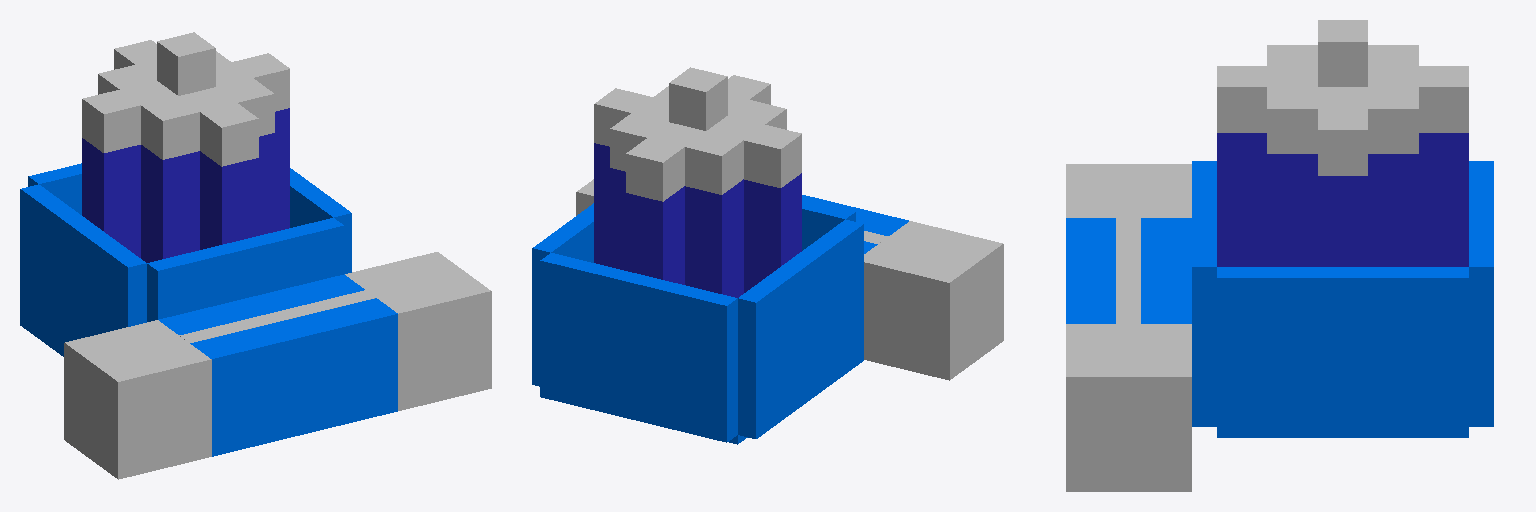
--- Facts derived from the render (not from the file) ---
3 views of the same robot in one strip: view 1: azimuth 30°, elevation 25°; view 2: azimuth 150°, elevation 25°; view 3: azimuth 270°, elevation 25° (orthographic).
Robot: combined_bulb_box_snap_2unit — 6 links, 5 joints (5 fixed); root link middle_plastic; default pose: all joints at 0.
Links seen in each view (by area): view 1: bulb, box, middle_plastic, start_metal, end_metal, line; view 2: box, bulb, start_metal, middle_plastic; view 3: box, bulb, end_metal, middle_plastic, start_metal, line.
Link boxes in pixels (left/top/right/bottom): bulb: left=82, top=32, right=289, bottom=262; box: left=20, top=163, right=351, bottom=356; middle_plastic: left=159, top=274, right=397, bottom=456; start_metal: left=64, top=320, right=211, bottom=479; end_metal: left=345, top=252, right=491, bottom=410; line: left=179, top=290, right=375, bottom=342; box: left=532, top=198, right=863, bottom=444; bulb: left=594, top=67, right=801, bottom=297; start_metal: left=864, top=221, right=1003, bottom=380; middle_plastic: left=802, top=195, right=908, bottom=253; box: left=1192, top=161, right=1493, bottom=437; bulb: left=1217, top=20, right=1468, bottom=266; end_metal: left=1066, top=324, right=1191, bottom=491; middle_plastic: left=1066, top=218, right=1191, bottom=323; start_metal: left=1066, top=164, right=1191, bottom=217; line: left=1116, top=218, right=1140, bottom=323.
Size in the robot's own frame: 0.2 by 0.17 by 0.155 metres.
Geometry: primitives only (box / cylinder / sphere), no mesh files.

URDF robot description (combined_bulb_box_snap_2unit):
<?xml version="1.0"?>
<robot name="combined_bulb_box_snap_2unit">

  <!-- Bulb link -->

    <link name="bulb">

          <!-- Bulb sphere #0 -->
          <visual>
            <origin xyz="-0.04 0.0 -0.06" rpy="0 0 0" />
            <geometry>
              <box size="0.02 0.02 0.02" />
            </geometry>
            <material name="bulb_mat_0">
              <color rgba="0.8 0.8 0.8 1.0"/>
            </material>
          </visual>
          <collision>
            <origin xyz="-0.04 0.0 -0.06" rpy="0 0 0" />
            <geometry>
              <box size="0.02 0.02 0.02" />
            </geometry>
          </collision>

          <!-- Bulb sphere #1 -->
          <visual>
            <origin xyz="-0.02 -0.02 -0.06" rpy="0 0 0" />
            <geometry>
              <box size="0.02 0.02 0.02" />
            </geometry>
            <material name="bulb_mat_1">
              <color rgba="0.8 0.8 0.8 1.0"/>
            </material>
          </visual>
          <collision>
            <origin xyz="-0.02 -0.02 -0.06" rpy="0 0 0" />
            <geometry>
              <box size="0.02 0.02 0.02" />
            </geometry>
          </collision>

          <!-- Bulb sphere #2 -->
          <visual>
            <origin xyz="-0.02 0.0 -0.06" rpy="0 0 0" />
            <geometry>
              <box size="0.02 0.02 0.02" />
            </geometry>
            <material name="bulb_mat_2">
              <color rgba="0.8 0.8 0.8 1.0"/>
            </material>
          </visual>
          <collision>
            <origin xyz="-0.02 0.0 -0.06" rpy="0 0 0" />
            <geometry>
              <box size="0.02 0.02 0.02" />
            </geometry>
          </collision>

          <!-- Bulb sphere #3 -->
          <visual>
            <origin xyz="-0.02 0.02 -0.06" rpy="0 0 0" />
            <geometry>
              <box size="0.02 0.02 0.02" />
            </geometry>
            <material name="bulb_mat_3">
              <color rgba="0.8 0.8 0.8 1.0"/>
            </material>
          </visual>
          <collision>
            <origin xyz="-0.02 0.02 -0.06" rpy="0 0 0" />
            <geometry>
              <box size="0.02 0.02 0.02" />
            </geometry>
          </collision>

          <!-- Bulb sphere #4 -->
          <visual>
            <origin xyz="0.0 -0.04 -0.06" rpy="0 0 0" />
            <geometry>
              <box size="0.02 0.02 0.02" />
            </geometry>
            <material name="bulb_mat_4">
              <color rgba="0.8 0.8 0.8 1.0"/>
            </material>
          </visual>
          <collision>
            <origin xyz="0.0 -0.04 -0.06" rpy="0 0 0" />
            <geometry>
              <box size="0.02 0.02 0.02" />
            </geometry>
          </collision>

          <!-- Bulb sphere #5 -->
          <visual>
            <origin xyz="0.0 -0.02 -0.06" rpy="0 0 0" />
            <geometry>
              <box size="0.02 0.02 0.02" />
            </geometry>
            <material name="bulb_mat_5">
              <color rgba="0.8 0.8 0.8 1.0"/>
            </material>
          </visual>
          <collision>
            <origin xyz="0.0 -0.02 -0.06" rpy="0 0 0" />
            <geometry>
              <box size="0.02 0.02 0.02" />
            </geometry>
          </collision>

          <!-- Bulb sphere #6 -->
          <visual>
            <origin xyz="0.0 0.0 -0.06" rpy="0 0 0" />
            <geometry>
              <box size="0.02 0.02 0.02" />
            </geometry>
            <material name="bulb_mat_6">
              <color rgba="0.8 0.8 0.8 1.0"/>
            </material>
          </visual>
          <collision>
            <origin xyz="0.0 0.0 -0.06" rpy="0 0 0" />
            <geometry>
              <box size="0.02 0.02 0.02" />
            </geometry>
          </collision>

          <!-- Bulb sphere #7 -->
          <visual>
            <origin xyz="0.0 0.02 -0.06" rpy="0 0 0" />
            <geometry>
              <box size="0.02 0.02 0.02" />
            </geometry>
            <material name="bulb_mat_7">
              <color rgba="0.8 0.8 0.8 1.0"/>
            </material>
          </visual>
          <collision>
            <origin xyz="0.0 0.02 -0.06" rpy="0 0 0" />
            <geometry>
              <box size="0.02 0.02 0.02" />
            </geometry>
          </collision>

          <!-- Bulb sphere #8 -->
          <visual>
            <origin xyz="0.0 0.04 -0.06" rpy="0 0 0" />
            <geometry>
              <box size="0.02 0.02 0.02" />
            </geometry>
            <material name="bulb_mat_8">
              <color rgba="0.8 0.8 0.8 1.0"/>
            </material>
          </visual>
          <collision>
            <origin xyz="0.0 0.04 -0.06" rpy="0 0 0" />
            <geometry>
              <box size="0.02 0.02 0.02" />
            </geometry>
          </collision>

          <!-- Bulb sphere #9 -->
          <visual>
            <origin xyz="0.02 -0.02 -0.06" rpy="0 0 0" />
            <geometry>
              <box size="0.02 0.02 0.02" />
            </geometry>
            <material name="bulb_mat_9">
              <color rgba="0.8 0.8 0.8 1.0"/>
            </material>
          </visual>
          <collision>
            <origin xyz="0.02 -0.02 -0.06" rpy="0 0 0" />
            <geometry>
              <box size="0.02 0.02 0.02" />
            </geometry>
          </collision>

          <!-- Bulb sphere #10 -->
          <visual>
            <origin xyz="0.02 0.0 -0.06" rpy="0 0 0" />
            <geometry>
              <box size="0.02 0.02 0.02" />
            </geometry>
            <material name="bulb_mat_10">
              <color rgba="0.8 0.8 0.8 1.0"/>
            </material>
          </visual>
          <collision>
            <origin xyz="0.02 0.0 -0.06" rpy="0 0 0" />
            <geometry>
              <box size="0.02 0.02 0.02" />
            </geometry>
          </collision>

          <!-- Bulb sphere #11 -->
          <visual>
            <origin xyz="0.02 0.02 -0.06" rpy="0 0 0" />
            <geometry>
              <box size="0.02 0.02 0.02" />
            </geometry>
            <material name="bulb_mat_11">
              <color rgba="0.8 0.8 0.8 1.0"/>
            </material>
          </visual>
          <collision>
            <origin xyz="0.02 0.02 -0.06" rpy="0 0 0" />
            <geometry>
              <box size="0.02 0.02 0.02" />
            </geometry>
          </collision>

          <!-- Bulb sphere #12 -->
          <visual>
            <origin xyz="0.04 0.0 -0.06" rpy="0 0 0" />
            <geometry>
              <box size="0.02 0.02 0.02" />
            </geometry>
            <material name="bulb_mat_12">
              <color rgba="0.8 0.8 0.8 1.0"/>
            </material>
          </visual>
          <collision>
            <origin xyz="0.04 0.0 -0.06" rpy="0 0 0" />
            <geometry>
              <box size="0.02 0.02 0.02" />
            </geometry>
          </collision>

          <!-- Bulb sphere #13 -->
          <visual>
            <origin xyz="-0.04 0.0 -0.039999999999999994" rpy="0 0 0" />
            <geometry>
              <box size="0.02 0.02 0.02" />
            </geometry>
            <material name="bulb_mat_13">
              <color rgba="0.2 0.2 0.8 1.0"/>
            </material>
          </visual>
          <collision>
            <origin xyz="-0.04 0.0 -0.039999999999999994" rpy="0 0 0" />
            <geometry>
              <box size="0.02 0.02 0.02" />
            </geometry>
          </collision>

          <!-- Bulb sphere #14 -->
          <visual>
            <origin xyz="-0.02 -0.02 -0.039999999999999994" rpy="0 0 0" />
            <geometry>
              <box size="0.02 0.02 0.02" />
            </geometry>
            <material name="bulb_mat_14">
              <color rgba="0.2 0.2 0.8 1.0"/>
            </material>
          </visual>
          <collision>
            <origin xyz="-0.02 -0.02 -0.039999999999999994" rpy="0 0 0" />
            <geometry>
              <box size="0.02 0.02 0.02" />
            </geometry>
          </collision>

          <!-- Bulb sphere #15 -->
          <visual>
            <origin xyz="-0.02 0.0 -0.039999999999999994" rpy="0 0 0" />
            <geometry>
              <box size="0.02 0.02 0.02" />
            </geometry>
            <material name="bulb_mat_15">
              <color rgba="0.2 0.2 0.8 1.0"/>
            </material>
          </visual>
          <collision>
            <origin xyz="-0.02 0.0 -0.039999999999999994" rpy="0 0 0" />
            <geometry>
              <box size="0.02 0.02 0.02" />
            </geometry>
          </collision>

          <!-- Bulb sphere #16 -->
          <visual>
            <origin xyz="-0.02 0.02 -0.039999999999999994" rpy="0 0 0" />
            <geometry>
              <box size="0.02 0.02 0.02" />
            </geometry>
            <material name="bulb_mat_16">
              <color rgba="0.2 0.2 0.8 1.0"/>
            </material>
          </visual>
          <collision>
            <origin xyz="-0.02 0.02 -0.039999999999999994" rpy="0 0 0" />
            <geometry>
              <box size="0.02 0.02 0.02" />
            </geometry>
          </collision>

          <!-- Bulb sphere #17 -->
          <visual>
            <origin xyz="0.0 -0.04 -0.039999999999999994" rpy="0 0 0" />
            <geometry>
              <box size="0.02 0.02 0.02" />
            </geometry>
            <material name="bulb_mat_17">
              <color rgba="0.2 0.2 0.8 1.0"/>
            </material>
          </visual>
          <collision>
            <origin xyz="0.0 -0.04 -0.039999999999999994" rpy="0 0 0" />
            <geometry>
              <box size="0.02 0.02 0.02" />
            </geometry>
          </collision>

          <!-- Bulb sphere #18 -->
          <visual>
            <origin xyz="0.0 -0.02 -0.039999999999999994" rpy="0 0 0" />
            <geometry>
              <box size="0.02 0.02 0.02" />
            </geometry>
            <material name="bulb_mat_18">
              <color rgba="0.2 0.2 0.8 1.0"/>
            </material>
          </visual>
          <collision>
            <origin xyz="0.0 -0.02 -0.039999999999999994" rpy="0 0 0" />
            <geometry>
              <box size="0.02 0.02 0.02" />
            </geometry>
          </collision>

          <!-- Bulb sphere #19 -->
          <visual>
            <origin xyz="0.0 0.0 -0.039999999999999994" rpy="0 0 0" />
            <geometry>
              <box size="0.02 0.02 0.02" />
            </geometry>
            <material name="bulb_mat_19">
              <color rgba="0.2 0.2 0.8 1.0"/>
            </material>
          </visual>
          <collision>
            <origin xyz="0.0 0.0 -0.039999999999999994" rpy="0 0 0" />
            <geometry>
              <box size="0.02 0.02 0.02" />
            </geometry>
          </collision>

          <!-- Bulb sphere #20 -->
          <visual>
            <origin xyz="0.0 0.02 -0.039999999999999994" rpy="0 0 0" />
            <geometry>
              <box size="0.02 0.02 0.02" />
            </geometry>
            <material name="bulb_mat_20">
              <color rgba="0.2 0.2 0.8 1.0"/>
            </material>
          </visual>
          <collision>
            <origin xyz="0.0 0.02 -0.039999999999999994" rpy="0 0 0" />
            <geometry>
              <box size="0.02 0.02 0.02" />
            </geometry>
          </collision>

          <!-- Bulb sphere #21 -->
          <visual>
            <origin xyz="0.0 0.04 -0.039999999999999994" rpy="0 0 0" />
            <geometry>
              <box size="0.02 0.02 0.02" />
            </geometry>
            <material name="bulb_mat_21">
              <color rgba="0.2 0.2 0.8 1.0"/>
            </material>
          </visual>
          <collision>
            <origin xyz="0.0 0.04 -0.039999999999999994" rpy="0 0 0" />
            <geometry>
              <box size="0.02 0.02 0.02" />
            </geometry>
          </collision>

          <!-- Bulb sphere #22 -->
          <visual>
            <origin xyz="0.02 -0.02 -0.039999999999999994" rpy="0 0 0" />
            <geometry>
              <box size="0.02 0.02 0.02" />
            </geometry>
            <material name="bulb_mat_22">
              <color rgba="0.2 0.2 0.8 1.0"/>
            </material>
          </visual>
          <collision>
            <origin xyz="0.02 -0.02 -0.039999999999999994" rpy="0 0 0" />
            <geometry>
              <box size="0.02 0.02 0.02" />
            </geometry>
          </collision>

          <!-- Bulb sphere #23 -->
          <visual>
            <origin xyz="0.02 0.0 -0.039999999999999994" rpy="0 0 0" />
            <geometry>
              <box size="0.02 0.02 0.02" />
            </geometry>
            <material name="bulb_mat_23">
              <color rgba="0.2 0.2 0.8 1.0"/>
            </material>
          </visual>
          <collision>
            <origin xyz="0.02 0.0 -0.039999999999999994" rpy="0 0 0" />
            <geometry>
              <box size="0.02 0.02 0.02" />
            </geometry>
          </collision>

          <!-- Bulb sphere #24 -->
          <visual>
            <origin xyz="0.02 0.02 -0.039999999999999994" rpy="0 0 0" />
            <geometry>
              <box size="0.02 0.02 0.02" />
            </geometry>
            <material name="bulb_mat_24">
              <color rgba="0.2 0.2 0.8 1.0"/>
            </material>
          </visual>
          <collision>
            <origin xyz="0.02 0.02 -0.039999999999999994" rpy="0 0 0" />
            <geometry>
              <box size="0.02 0.02 0.02" />
            </geometry>
          </collision>

          <!-- Bulb sphere #25 -->
          <visual>
            <origin xyz="0.04 0.0 -0.039999999999999994" rpy="0 0 0" />
            <geometry>
              <box size="0.02 0.02 0.02" />
            </geometry>
            <material name="bulb_mat_25">
              <color rgba="0.2 0.2 0.8 1.0"/>
            </material>
          </visual>
          <collision>
            <origin xyz="0.04 0.0 -0.039999999999999994" rpy="0 0 0" />
            <geometry>
              <box size="0.02 0.02 0.02" />
            </geometry>
          </collision>

          <!-- Bulb sphere #26 -->
          <visual>
            <origin xyz="-0.04 0.0 -0.019999999999999993" rpy="0 0 0" />
            <geometry>
              <box size="0.02 0.02 0.02" />
            </geometry>
            <material name="bulb_mat_26">
              <color rgba="0.2 0.2 0.8 1.0"/>
            </material>
          </visual>
          <collision>
            <origin xyz="-0.04 0.0 -0.019999999999999993" rpy="0 0 0" />
            <geometry>
              <box size="0.02 0.02 0.02" />
            </geometry>
          </collision>

          <!-- Bulb sphere #27 -->
          <visual>
            <origin xyz="-0.02 -0.02 -0.019999999999999993" rpy="0 0 0" />
            <geometry>
              <box size="0.02 0.02 0.02" />
            </geometry>
            <material name="bulb_mat_27">
              <color rgba="0.2 0.2 0.8 1.0"/>
            </material>
          </visual>
          <collision>
            <origin xyz="-0.02 -0.02 -0.019999999999999993" rpy="0 0 0" />
            <geometry>
              <box size="0.02 0.02 0.02" />
            </geometry>
          </collision>

          <!-- Bulb sphere #28 -->
          <visual>
            <origin xyz="-0.02 0.0 -0.019999999999999993" rpy="0 0 0" />
            <geometry>
              <box size="0.02 0.02 0.02" />
            </geometry>
            <material name="bulb_mat_28">
              <color rgba="0.2 0.2 0.8 1.0"/>
            </material>
          </visual>
          <collision>
            <origin xyz="-0.02 0.0 -0.019999999999999993" rpy="0 0 0" />
            <geometry>
              <box size="0.02 0.02 0.02" />
            </geometry>
          </collision>

          <!-- Bulb sphere #29 -->
          <visual>
            <origin xyz="-0.02 0.02 -0.019999999999999993" rpy="0 0 0" />
            <geometry>
              <box size="0.02 0.02 0.02" />
            </geometry>
            <material name="bulb_mat_29">
              <color rgba="0.2 0.2 0.8 1.0"/>
            </material>
          </visual>
          <collision>
            <origin xyz="-0.02 0.02 -0.019999999999999993" rpy="0 0 0" />
            <geometry>
              <box size="0.02 0.02 0.02" />
            </geometry>
          </collision>

          <!-- Bulb sphere #30 -->
          <visual>
            <origin xyz="0.0 -0.04 -0.019999999999999993" rpy="0 0 0" />
            <geometry>
              <box size="0.02 0.02 0.02" />
            </geometry>
            <material name="bulb_mat_30">
              <color rgba="0.2 0.2 0.8 1.0"/>
            </material>
          </visual>
          <collision>
            <origin xyz="0.0 -0.04 -0.019999999999999993" rpy="0 0 0" />
            <geometry>
              <box size="0.02 0.02 0.02" />
            </geometry>
          </collision>

          <!-- Bulb sphere #31 -->
          <visual>
            <origin xyz="0.0 -0.02 -0.019999999999999993" rpy="0 0 0" />
            <geometry>
              <box size="0.02 0.02 0.02" />
            </geometry>
            <material name="bulb_mat_31">
              <color rgba="0.2 0.2 0.8 1.0"/>
            </material>
          </visual>
          <collision>
            <origin xyz="0.0 -0.02 -0.019999999999999993" rpy="0 0 0" />
            <geometry>
              <box size="0.02 0.02 0.02" />
            </geometry>
          </collision>

          <!-- Bulb sphere #32 -->
          <visual>
            <origin xyz="0.0 0.0 -0.019999999999999993" rpy="0 0 0" />
            <geometry>
              <box size="0.02 0.02 0.02" />
            </geometry>
            <material name="bulb_mat_32">
              <color rgba="0.2 0.2 0.8 1.0"/>
            </material>
          </visual>
          <collision>
            <origin xyz="0.0 0.0 -0.019999999999999993" rpy="0 0 0" />
            <geometry>
              <box size="0.02 0.02 0.02" />
            </geometry>
          </collision>

          <!-- Bulb sphere #33 -->
          <visual>
            <origin xyz="0.0 0.02 -0.019999999999999993" rpy="0 0 0" />
            <geometry>
              <box size="0.02 0.02 0.02" />
            </geometry>
            <material name="bulb_mat_33">
              <color rgba="0.2 0.2 0.8 1.0"/>
            </material>
          </visual>
          <collision>
            <origin xyz="0.0 0.02 -0.019999999999999993" rpy="0 0 0" />
            <geometry>
              <box size="0.02 0.02 0.02" />
            </geometry>
          </collision>

          <!-- Bulb sphere #34 -->
          <visual>
            <origin xyz="0.0 0.04 -0.019999999999999993" rpy="0 0 0" />
            <geometry>
              <box size="0.02 0.02 0.02" />
            </geometry>
            <material name="bulb_mat_34">
              <color rgba="0.2 0.2 0.8 1.0"/>
            </material>
          </visual>
          <collision>
            <origin xyz="0.0 0.04 -0.019999999999999993" rpy="0 0 0" />
            <geometry>
              <box size="0.02 0.02 0.02" />
            </geometry>
          </collision>

          <!-- Bulb sphere #35 -->
          <visual>
            <origin xyz="0.02 -0.02 -0.019999999999999993" rpy="0 0 0" />
            <geometry>
              <box size="0.02 0.02 0.02" />
            </geometry>
            <material name="bulb_mat_35">
              <color rgba="0.2 0.2 0.8 1.0"/>
            </material>
          </visual>
          <collision>
            <origin xyz="0.02 -0.02 -0.019999999999999993" rpy="0 0 0" />
            <geometry>
              <box size="0.02 0.02 0.02" />
            </geometry>
          </collision>

          <!-- Bulb sphere #36 -->
          <visual>
            <origin xyz="0.02 0.0 -0.019999999999999993" rpy="0 0 0" />
            <geometry>
              <box size="0.02 0.02 0.02" />
            </geometry>
            <material name="bulb_mat_36">
              <color rgba="0.2 0.2 0.8 1.0"/>
            </material>
          </visual>
          <collision>
            <origin xyz="0.02 0.0 -0.019999999999999993" rpy="0 0 0" />
            <geometry>
              <box size="0.02 0.02 0.02" />
            </geometry>
          </collision>

          <!-- Bulb sphere #37 -->
          <visual>
            <origin xyz="0.02 0.02 -0.019999999999999993" rpy="0 0 0" />
            <geometry>
              <box size="0.02 0.02 0.02" />
            </geometry>
            <material name="bulb_mat_37">
              <color rgba="0.2 0.2 0.8 1.0"/>
            </material>
          </visual>
          <collision>
            <origin xyz="0.02 0.02 -0.019999999999999993" rpy="0 0 0" />
            <geometry>
              <box size="0.02 0.02 0.02" />
            </geometry>
          </collision>

          <!-- Bulb sphere #38 -->
          <visual>
            <origin xyz="0.04 0.0 -0.019999999999999993" rpy="0 0 0" />
            <geometry>
              <box size="0.02 0.02 0.02" />
            </geometry>
            <material name="bulb_mat_38">
              <color rgba="0.2 0.2 0.8 1.0"/>
            </material>
          </visual>
          <collision>
            <origin xyz="0.04 0.0 -0.019999999999999993" rpy="0 0 0" />
            <geometry>
              <box size="0.02 0.02 0.02" />
            </geometry>
          </collision>

          <!-- Bulb sphere #39 -->
          <visual>
            <origin xyz="-0.04 0.0 6.938893903907228e-18" rpy="0 0 0" />
            <geometry>
              <box size="0.02 0.02 0.02" />
            </geometry>
            <material name="bulb_mat_39">
              <color rgba="0.2 0.2 0.8 1.0"/>
            </material>
          </visual>
          <collision>
            <origin xyz="-0.04 0.0 6.938893903907228e-18" rpy="0 0 0" />
            <geometry>
              <box size="0.02 0.02 0.02" />
            </geometry>
          </collision>

          <!-- Bulb sphere #40 -->
          <visual>
            <origin xyz="-0.02 -0.02 6.938893903907228e-18" rpy="0 0 0" />
            <geometry>
              <box size="0.02 0.02 0.02" />
            </geometry>
            <material name="bulb_mat_40">
              <color rgba="0.2 0.2 0.8 1.0"/>
            </material>
          </visual>
          <collision>
            <origin xyz="-0.02 -0.02 6.938893903907228e-18" rpy="0 0 0" />
            <geometry>
              <box size="0.02 0.02 0.02" />
            </geometry>
          </collision>

          <!-- Bulb sphere #41 -->
          <visual>
            <origin xyz="-0.02 0.0 6.938893903907228e-18" rpy="0 0 0" />
            <geometry>
              <box size="0.02 0.02 0.02" />
            </geometry>
            <material name="bulb_mat_41">
              <color rgba="0.2 0.2 0.8 1.0"/>
            </material>
          </visual>
          <collision>
            <origin xyz="-0.02 0.0 6.938893903907228e-18" rpy="0 0 0" />
            <geometry>
              <box size="0.02 0.02 0.02" />
            </geometry>
          </collision>

          <!-- Bulb sphere #42 -->
          <visual>
            <origin xyz="-0.02 0.02 6.938893903907228e-18" rpy="0 0 0" />
            <geometry>
              <box size="0.02 0.02 0.02" />
            </geometry>
            <material name="bulb_mat_42">
              <color rgba="0.2 0.2 0.8 1.0"/>
            </material>
          </visual>
          <collision>
            <origin xyz="-0.02 0.02 6.938893903907228e-18" rpy="0 0 0" />
            <geometry>
              <box size="0.02 0.02 0.02" />
            </geometry>
          </collision>

          <!-- Bulb sphere #43 -->
          <visual>
            <origin xyz="0.0 -0.04 6.938893903907228e-18" rpy="0 0 0" />
            <geometry>
              <box size="0.02 0.02 0.02" />
            </geometry>
            <material name="bulb_mat_43">
              <color rgba="0.2 0.2 0.8 1.0"/>
            </material>
          </visual>
          <collision>
            <origin xyz="0.0 -0.04 6.938893903907228e-18" rpy="0 0 0" />
            <geometry>
              <box size="0.02 0.02 0.02" />
            </geometry>
          </collision>

          <!-- Bulb sphere #44 -->
          <visual>
            <origin xyz="0.0 -0.02 6.938893903907228e-18" rpy="0 0 0" />
            <geometry>
              <box size="0.02 0.02 0.02" />
            </geometry>
            <material name="bulb_mat_44">
              <color rgba="0.2 0.2 0.8 1.0"/>
            </material>
          </visual>
          <collision>
            <origin xyz="0.0 -0.02 6.938893903907228e-18" rpy="0 0 0" />
            <geometry>
              <box size="0.02 0.02 0.02" />
            </geometry>
          </collision>

          <!-- Bulb sphere #45 -->
          <visual>
            <origin xyz="0.0 0.0 6.938893903907228e-18" rpy="0 0 0" />
            <geometry>
              <box size="0.02 0.02 0.02" />
            </geometry>
            <material name="bulb_mat_45">
              <color rgba="0.2 0.2 0.8 1.0"/>
            </material>
          </visual>
          <collision>
            <origin xyz="0.0 0.0 6.938893903907228e-18" rpy="0 0 0" />
            <geometry>
              <box size="0.02 0.02 0.02" />
            </geometry>
          </collision>

          <!-- Bulb sphere #46 -->
          <visual>
            <origin xyz="0.0 0.02 6.938893903907228e-18" rpy="0 0 0" />
            <geometry>
              <box size="0.02 0.02 0.02" />
            </geometry>
            <material name="bulb_mat_46">
              <color rgba="0.2 0.2 0.8 1.0"/>
            </material>
          </visual>
          <collision>
            <origin xyz="0.0 0.02 6.938893903907228e-18" rpy="0 0 0" />
            <geometry>
              <box size="0.02 0.02 0.02" />
            </geometry>
          </collision>

          <!-- Bulb sphere #47 -->
          <visual>
            <origin xyz="0.0 0.04 6.938893903907228e-18" rpy="0 0 0" />
            <geometry>
              <box size="0.02 0.02 0.02" />
            </geometry>
            <material name="bulb_mat_47">
              <color rgba="0.2 0.2 0.8 1.0"/>
            </material>
          </visual>
          <collision>
            <origin xyz="0.0 0.04 6.938893903907228e-18" rpy="0 0 0" />
            <geometry>
              <box size="0.02 0.02 0.02" />
            </geometry>
          </collision>

          <!-- Bulb sphere #48 -->
          <visual>
            <origin xyz="0.02 -0.02 6.938893903907228e-18" rpy="0 0 0" />
            <geometry>
              <box size="0.02 0.02 0.02" />
            </geometry>
            <material name="bulb_mat_48">
              <color rgba="0.2 0.2 0.8 1.0"/>
            </material>
          </visual>
          <collision>
            <origin xyz="0.02 -0.02 6.938893903907228e-18" rpy="0 0 0" />
            <geometry>
              <box size="0.02 0.02 0.02" />
            </geometry>
          </collision>

          <!-- Bulb sphere #49 -->
          <visual>
            <origin xyz="0.02 0.0 6.938893903907228e-18" rpy="0 0 0" />
            <geometry>
              <box size="0.02 0.02 0.02" />
            </geometry>
            <material name="bulb_mat_49">
              <color rgba="0.2 0.2 0.8 1.0"/>
            </material>
          </visual>
          <collision>
            <origin xyz="0.02 0.0 6.938893903907228e-18" rpy="0 0 0" />
            <geometry>
              <box size="0.02 0.02 0.02" />
            </geometry>
          </collision>

          <!-- Bulb sphere #50 -->
          <visual>
            <origin xyz="0.02 0.02 6.938893903907228e-18" rpy="0 0 0" />
            <geometry>
              <box size="0.02 0.02 0.02" />
            </geometry>
            <material name="bulb_mat_50">
              <color rgba="0.2 0.2 0.8 1.0"/>
            </material>
          </visual>
          <collision>
            <origin xyz="0.02 0.02 6.938893903907228e-18" rpy="0 0 0" />
            <geometry>
              <box size="0.02 0.02 0.02" />
            </geometry>
          </collision>

          <!-- Bulb sphere #51 -->
          <visual>
            <origin xyz="0.04 0.0 6.938893903907228e-18" rpy="0 0 0" />
            <geometry>
              <box size="0.02 0.02 0.02" />
            </geometry>
            <material name="bulb_mat_51">
              <color rgba="0.2 0.2 0.8 1.0"/>
            </material>
          </visual>
          <collision>
            <origin xyz="0.04 0.0 6.938893903907228e-18" rpy="0 0 0" />
            <geometry>
              <box size="0.02 0.02 0.02" />
            </geometry>
          </collision>

          <!-- Bulb sphere #52 -->
          <visual>
            <origin xyz="-0.04 0.0 0.020000000000000004" rpy="0 0 0" />
            <geometry>
              <box size="0.02 0.02 0.02" />
            </geometry>
            <material name="bulb_mat_52">
              <color rgba="0.2 0.2 0.8 1.0"/>
            </material>
          </visual>
          <collision>
            <origin xyz="-0.04 0.0 0.020000000000000004" rpy="0 0 0" />
            <geometry>
              <box size="0.02 0.02 0.02" />
            </geometry>
          </collision>

          <!-- Bulb sphere #53 -->
          <visual>
            <origin xyz="-0.02 -0.02 0.020000000000000004" rpy="0 0 0" />
            <geometry>
              <box size="0.02 0.02 0.02" />
            </geometry>
            <material name="bulb_mat_53">
              <color rgba="0.2 0.2 0.8 1.0"/>
            </material>
          </visual>
          <collision>
            <origin xyz="-0.02 -0.02 0.020000000000000004" rpy="0 0 0" />
            <geometry>
              <box size="0.02 0.02 0.02" />
            </geometry>
          </collision>

          <!-- Bulb sphere #54 -->
          <visual>
            <origin xyz="-0.02 0.0 0.020000000000000004" rpy="0 0 0" />
            <geometry>
              <box size="0.02 0.02 0.02" />
            </geometry>
            <material name="bulb_mat_54">
              <color rgba="0.2 0.2 0.8 1.0"/>
            </material>
          </visual>
          <collision>
            <origin xyz="-0.02 0.0 0.020000000000000004" rpy="0 0 0" />
            <geometry>
              <box size="0.02 0.02 0.02" />
            </geometry>
          </collision>

          <!-- Bulb sphere #55 -->
          <visual>
            <origin xyz="-0.02 0.02 0.020000000000000004" rpy="0 0 0" />
            <geometry>
              <box size="0.02 0.02 0.02" />
            </geometry>
            <material name="bulb_mat_55">
              <color rgba="0.2 0.2 0.8 1.0"/>
            </material>
          </visual>
          <collision>
            <origin xyz="-0.02 0.02 0.020000000000000004" rpy="0 0 0" />
            <geometry>
              <box size="0.02 0.02 0.02" />
            </geometry>
          </collision>

          <!-- Bulb sphere #56 -->
          <visual>
            <origin xyz="0.0 -0.04 0.020000000000000004" rpy="0 0 0" />
            <geometry>
              <box size="0.02 0.02 0.02" />
            </geometry>
            <material name="bulb_mat_56">
              <color rgba="0.2 0.2 0.8 1.0"/>
            </material>
          </visual>
          <collision>
            <origin xyz="0.0 -0.04 0.020000000000000004" rpy="0 0 0" />
            <geometry>
              <box size="0.02 0.02 0.02" />
            </geometry>
          </collision>

          <!-- Bulb sphere #57 -->
          <visual>
            <origin xyz="0.0 -0.02 0.020000000000000004" rpy="0 0 0" />
            <geometry>
              <box size="0.02 0.02 0.02" />
            </geometry>
            <material name="bulb_mat_57">
              <color rgba="0.2 0.2 0.8 1.0"/>
            </material>
          </visual>
          <collision>
            <origin xyz="0.0 -0.02 0.020000000000000004" rpy="0 0 0" />
            <geometry>
              <box size="0.02 0.02 0.02" />
            </geometry>
          </collision>

          <!-- Bulb sphere #58 -->
          <visual>
            <origin xyz="0.0 0.0 0.020000000000000004" rpy="0 0 0" />
            <geometry>
              <box size="0.02 0.02 0.02" />
            </geometry>
            <material name="bulb_mat_58">
              <color rgba="0.2 0.2 0.8 1.0"/>
            </material>
          </visual>
          <collision>
            <origin xyz="0.0 0.0 0.020000000000000004" rpy="0 0 0" />
            <geometry>
              <box size="0.02 0.02 0.02" />
            </geometry>
          </collision>

          <!-- Bulb sphere #59 -->
          <visual>
            <origin xyz="0.0 0.02 0.020000000000000004" rpy="0 0 0" />
            <geometry>
              <box size="0.02 0.02 0.02" />
            </geometry>
            <material name="bulb_mat_59">
              <color rgba="0.2 0.2 0.8 1.0"/>
            </material>
          </visual>
          <collision>
            <origin xyz="0.0 0.02 0.020000000000000004" rpy="0 0 0" />
            <geometry>
              <box size="0.02 0.02 0.02" />
            </geometry>
          </collision>

          <!-- Bulb sphere #60 -->
          <visual>
            <origin xyz="0.0 0.04 0.020000000000000004" rpy="0 0 0" />
            <geometry>
              <box size="0.02 0.02 0.02" />
            </geometry>
            <material name="bulb_mat_60">
              <color rgba="0.2 0.2 0.8 1.0"/>
            </material>
          </visual>
          <collision>
            <origin xyz="0.0 0.04 0.020000000000000004" rpy="0 0 0" />
            <geometry>
              <box size="0.02 0.02 0.02" />
            </geometry>
          </collision>

          <!-- Bulb sphere #61 -->
          <visual>
            <origin xyz="0.02 -0.02 0.020000000000000004" rpy="0 0 0" />
            <geometry>
              <box size="0.02 0.02 0.02" />
            </geometry>
            <material name="bulb_mat_61">
              <color rgba="0.2 0.2 0.8 1.0"/>
            </material>
          </visual>
          <collision>
            <origin xyz="0.02 -0.02 0.020000000000000004" rpy="0 0 0" />
            <geometry>
              <box size="0.02 0.02 0.02" />
            </geometry>
          </collision>

          <!-- Bulb sphere #62 -->
          <visual>
            <origin xyz="0.02 0.0 0.020000000000000004" rpy="0 0 0" />
            <geometry>
              <box size="0.02 0.02 0.02" />
            </geometry>
            <material name="bulb_mat_62">
              <color rgba="0.2 0.2 0.8 1.0"/>
            </material>
          </visual>
          <collision>
            <origin xyz="0.02 0.0 0.020000000000000004" rpy="0 0 0" />
            <geometry>
              <box size="0.02 0.02 0.02" />
            </geometry>
          </collision>

          <!-- Bulb sphere #63 -->
          <visual>
            <origin xyz="0.02 0.02 0.020000000000000004" rpy="0 0 0" />
            <geometry>
              <box size="0.02 0.02 0.02" />
            </geometry>
            <material name="bulb_mat_63">
              <color rgba="0.2 0.2 0.8 1.0"/>
            </material>
          </visual>
          <collision>
            <origin xyz="0.02 0.02 0.020000000000000004" rpy="0 0 0" />
            <geometry>
              <box size="0.02 0.02 0.02" />
            </geometry>
          </collision>

          <!-- Bulb sphere #64 -->
          <visual>
            <origin xyz="0.04 0.0 0.020000000000000004" rpy="0 0 0" />
            <geometry>
              <box size="0.02 0.02 0.02" />
            </geometry>
            <material name="bulb_mat_64">
              <color rgba="0.2 0.2 0.8 1.0"/>
            </material>
          </visual>
          <collision>
            <origin xyz="0.04 0.0 0.020000000000000004" rpy="0 0 0" />
            <geometry>
              <box size="0.02 0.02 0.02" />
            </geometry>
          </collision>

          <!-- Bulb sphere #65 -->
          <visual>
            <origin xyz="-0.04 0.0 0.039999999999999994" rpy="0 0 0" />
            <geometry>
              <box size="0.02 0.02 0.02" />
            </geometry>
            <material name="bulb_mat_65">
              <color rgba="0.8 0.8 0.8 1.0"/>
            </material>
          </visual>
          <collision>
            <origin xyz="-0.04 0.0 0.039999999999999994" rpy="0 0 0" />
            <geometry>
              <box size="0.02 0.02 0.02" />
            </geometry>
          </collision>

          <!-- Bulb sphere #66 -->
          <visual>
            <origin xyz="-0.02 -0.02 0.039999999999999994" rpy="0 0 0" />
            <geometry>
              <box size="0.02 0.02 0.02" />
            </geometry>
            <material name="bulb_mat_66">
              <color rgba="0.8 0.8 0.8 1.0"/>
            </material>
          </visual>
          <collision>
            <origin xyz="-0.02 -0.02 0.039999999999999994" rpy="0 0 0" />
            <geometry>
              <box size="0.02 0.02 0.02" />
            </geometry>
          </collision>

          <!-- Bulb sphere #67 -->
          <visual>
            <origin xyz="-0.02 0.0 0.039999999999999994" rpy="0 0 0" />
            <geometry>
              <box size="0.02 0.02 0.02" />
            </geometry>
            <material name="bulb_mat_67">
              <color rgba="0.8 0.8 0.8 1.0"/>
            </material>
          </visual>
          <collision>
            <origin xyz="-0.02 0.0 0.039999999999999994" rpy="0 0 0" />
            <geometry>
              <box size="0.02 0.02 0.02" />
            </geometry>
          </collision>

          <!-- Bulb sphere #68 -->
          <visual>
            <origin xyz="-0.02 0.02 0.039999999999999994" rpy="0 0 0" />
            <geometry>
              <box size="0.02 0.02 0.02" />
            </geometry>
            <material name="bulb_mat_68">
              <color rgba="0.8 0.8 0.8 1.0"/>
            </material>
          </visual>
          <collision>
            <origin xyz="-0.02 0.02 0.039999999999999994" rpy="0 0 0" />
            <geometry>
              <box size="0.02 0.02 0.02" />
            </geometry>
          </collision>

          <!-- Bulb sphere #69 -->
          <visual>
            <origin xyz="0.0 -0.04 0.039999999999999994" rpy="0 0 0" />
            <geometry>
              <box size="0.02 0.02 0.02" />
            </geometry>
            <material name="bulb_mat_69">
              <color rgba="0.8 0.8 0.8 1.0"/>
            </material>
          </visual>
          <collision>
            <origin xyz="0.0 -0.04 0.039999999999999994" rpy="0 0 0" />
            <geometry>
              <box size="0.02 0.02 0.02" />
            </geometry>
          </collision>

          <!-- Bulb sphere #70 -->
          <visual>
            <origin xyz="0.0 -0.02 0.039999999999999994" rpy="0 0 0" />
            <geometry>
              <box size="0.02 0.02 0.02" />
            </geometry>
            <material name="bulb_mat_70">
              <color rgba="0.8 0.8 0.8 1.0"/>
            </material>
          </visual>
          <collision>
            <origin xyz="0.0 -0.02 0.039999999999999994" rpy="0 0 0" />
            <geometry>
              <box size="0.02 0.02 0.02" />
            </geometry>
          </collision>

          <!-- Bulb sphere #71 -->
          <visual>
            <origin xyz="0.0 0.0 0.039999999999999994" rpy="0 0 0" />
            <geometry>
              <box size="0.02 0.02 0.02" />
            </geometry>
            <material name="bulb_mat_71">
              <color rgba="0.8 0.8 0.8 1.0"/>
            </material>
          </visual>
          <collision>
            <origin xyz="0.0 0.0 0.039999999999999994" rpy="0 0 0" />
            <geometry>
              <box size="0.02 0.02 0.02" />
            </geometry>
          </collision>

          <!-- Bulb sphere #72 -->
          <visual>
            <origin xyz="0.0 0.02 0.039999999999999994" rpy="0 0 0" />
            <geometry>
              <box size="0.02 0.02 0.02" />
            </geometry>
            <material name="bulb_mat_72">
              <color rgba="0.8 0.8 0.8 1.0"/>
            </material>
          </visual>
          <collision>
            <origin xyz="0.0 0.02 0.039999999999999994" rpy="0 0 0" />
            <geometry>
              <box size="0.02 0.02 0.02" />
            </geometry>
          </collision>

          <!-- Bulb sphere #73 -->
          <visual>
            <origin xyz="0.0 0.04 0.039999999999999994" rpy="0 0 0" />
            <geometry>
              <box size="0.02 0.02 0.02" />
            </geometry>
            <material name="bulb_mat_73">
              <color rgba="0.8 0.8 0.8 1.0"/>
            </material>
          </visual>
          <collision>
            <origin xyz="0.0 0.04 0.039999999999999994" rpy="0 0 0" />
            <geometry>
              <box size="0.02 0.02 0.02" />
            </geometry>
          </collision>

          <!-- Bulb sphere #74 -->
          <visual>
            <origin xyz="0.02 -0.02 0.039999999999999994" rpy="0 0 0" />
            <geometry>
              <box size="0.02 0.02 0.02" />
            </geometry>
            <material name="bulb_mat_74">
              <color rgba="0.8 0.8 0.8 1.0"/>
            </material>
          </visual>
          <collision>
            <origin xyz="0.02 -0.02 0.039999999999999994" rpy="0 0 0" />
            <geometry>
              <box size="0.02 0.02 0.02" />
            </geometry>
          </collision>

          <!-- Bulb sphere #75 -->
          <visual>
            <origin xyz="0.02 0.0 0.039999999999999994" rpy="0 0 0" />
            <geometry>
              <box size="0.02 0.02 0.02" />
            </geometry>
            <material name="bulb_mat_75">
              <color rgba="0.8 0.8 0.8 1.0"/>
            </material>
          </visual>
          <collision>
            <origin xyz="0.02 0.0 0.039999999999999994" rpy="0 0 0" />
            <geometry>
              <box size="0.02 0.02 0.02" />
            </geometry>
          </collision>

          <!-- Bulb sphere #76 -->
          <visual>
            <origin xyz="0.02 0.02 0.039999999999999994" rpy="0 0 0" />
            <geometry>
              <box size="0.02 0.02 0.02" />
            </geometry>
            <material name="bulb_mat_76">
              <color rgba="0.8 0.8 0.8 1.0"/>
            </material>
          </visual>
          <collision>
            <origin xyz="0.02 0.02 0.039999999999999994" rpy="0 0 0" />
            <geometry>
              <box size="0.02 0.02 0.02" />
            </geometry>
          </collision>

          <!-- Bulb sphere #77 -->
          <visual>
            <origin xyz="0.04 0.0 0.039999999999999994" rpy="0 0 0" />
            <geometry>
              <box size="0.02 0.02 0.02" />
            </geometry>
            <material name="bulb_mat_77">
              <color rgba="0.8 0.8 0.8 1.0"/>
            </material>
          </visual>
          <collision>
            <origin xyz="0.04 0.0 0.039999999999999994" rpy="0 0 0" />
            <geometry>
              <box size="0.02 0.02 0.02" />
            </geometry>
          </collision>

          <!-- Bulb sphere #78 -->
          <visual>
            <origin xyz="0.0 0 0.06" rpy="0 0 0" />
            <geometry>
              <box size="0.02 0.02 0.02" />
            </geometry>
            <material name="bulb_mat_78">
              <color rgba="0.8 0.8 0.8 1.0"/>
            </material>
          </visual>
          <collision>
            <origin xyz="0.0 0 0.06" rpy="0 0 0" />
            <geometry>
              <box size="0.02 0.02 0.02" />
            </geometry>
          </collision>

    </link>


  <!-- Box link -->

    <link name="box">

          <!-- Box wall #0 -->
          <visual>
            <origin xyz="0.0 0 -0.039999999999999994" rpy="0 0 0" />
            <geometry>
              <box size="0.1 0.1 0.01" />
            </geometry>
            <material name="box_wall_mat_0">
              <color rgba="0.0 0.5 1.0 1.0"/>
            </material>
          </visual>
          <collision>
            <origin xyz="0.0 0 -0.039999999999999994" rpy="0 0 0" />
            <geometry>
              <box size="0.1 0.1 0.01" />
            </geometry>
          </collision>

          <!-- Box wall #1 -->
          <visual>
            <origin xyz="0.0 -0.055 -0.0049999999999999906" rpy="0 0 0" />
            <geometry>
              <box size="0.1 0.01 0.07" />
            </geometry>
            <material name="box_wall_mat_1">
              <color rgba="0.0 0.5 1.0 1.0"/>
            </material>
          </visual>
          <collision>
            <origin xyz="0.0 -0.055 -0.0049999999999999906" rpy="0 0 0" />
            <geometry>
              <box size="0.1 0.01 0.07" />
            </geometry>
          </collision>

          <!-- Box wall #2 -->
          <visual>
            <origin xyz="0.0 0.055 -0.0049999999999999906" rpy="0 0 0" />
            <geometry>
              <box size="0.1 0.01 0.07" />
            </geometry>
            <material name="box_wall_mat_2">
              <color rgba="0.0 0.5 1.0 1.0"/>
            </material>
          </visual>
          <collision>
            <origin xyz="0.0 0.055 -0.0049999999999999906" rpy="0 0 0" />
            <geometry>
              <box size="0.1 0.01 0.07" />
            </geometry>
          </collision>

          <!-- Box wall #3 -->
          <visual>
            <origin xyz="-0.055 0 -0.0049999999999999906" rpy="0 0 0" />
            <geometry>
              <box size="0.01 0.1 0.07" />
            </geometry>
            <material name="box_wall_mat_3">
              <color rgba="0.0 0.5 1.0 1.0"/>
            </material>
          </visual>
          <collision>
            <origin xyz="-0.055 0 -0.0049999999999999906" rpy="0 0 0" />
            <geometry>
              <box size="0.01 0.1 0.07" />
            </geometry>
          </collision>

          <!-- Box wall #4 -->
          <visual>
            <origin xyz="0.055 0 -0.0049999999999999906" rpy="0 0 0" />
            <geometry>
              <box size="0.01 0.1 0.07" />
            </geometry>
            <material name="box_wall_mat_4">
              <color rgba="0.0 0.5 1.0 1.0"/>
            </material>
          </visual>
          <collision>
            <origin xyz="0.055 0 -0.0049999999999999906" rpy="0 0 0" />
            <geometry>
              <box size="0.01 0.1 0.07" />
            </geometry>
          </collision>

    </link>


  <!-- Joint: bulb to box -->

    <joint name="bulb_box_joint" type="fixed">
      <parent link="bulb"/>
      <child link="box"/>
      <origin xyz="0.0 0 -0.039999999999999994" rpy="0 0 0"/>
    </joint>


  <!-- Snap connector links + joints -->

    <!-- Snap connector sub-block (length_units=2) -->

    <link name="middle_plastic">
      <visual>
        <origin xyz="0 0 0" rpy="0 0 0" />
        <geometry>
          <box size="0.1 0.05 0.05" />
        </geometry>
        <material name="middle_plastic_mat">
          <color rgba="0.0 0.5 1.0 1.0"/>
        </material>
      </visual>
      <collision>
        <origin xyz="0 0 0" rpy="0 0 0" />
        <geometry>
          <box size="0.1 0.05 0.05" />
        </geometry>
      </collision>
    </link>


    <link name="start_metal">
      <visual>
        <origin xyz="0 0 0" rpy="0 0 0" />
        <geometry>
          <box size="0.05 0.05 0.05" />
        </geometry>
        <material name="start_metal_mat">
          <color rgba="0.8 0.8 0.8 1.0"/>
        </material>
      </visual>
      <collision>
        <origin xyz="0 0 0" rpy="0 0 0" />
        <geometry>
          <box size="0.05 0.05 0.05" />
        </geometry>
      </collision>
    </link>


    <link name="end_metal">
      <visual>
        <origin xyz="0 0 0" rpy="0 0 0" />
        <geometry>
          <box size="0.05 0.05 0.05" />
        </geometry>
        <material name="end_metal_mat">
          <color rgba="0.8 0.8 0.8 1.0"/>
        </material>
      </visual>
      <collision>
        <origin xyz="0 0 0" rpy="0 0 0" />
        <geometry>
          <box size="0.05 0.05 0.05" />
        </geometry>
      </collision>
    </link>


    <link name="line">
      <visual>
        <origin xyz="0 0 0" rpy="0 0 0" />
        <geometry>
          <box size="0.1 0.01 0.0001" />
        </geometry>
        <material name="line_mat">
          <color rgba="0.8 0.8 0.8 1.0"/>
        </material>
      </visual>
      <collision>
        <origin xyz="0 0 0" rpy="0 0 0" />
        <geometry>
          <box size="0.1 0.01 0.0001" />
        </geometry>
      </collision>
    </link>


        <joint name="start_metal_joint" type="fixed">
          <parent link="middle_plastic"/>
          <child link="start_metal"/>
          <origin xyz="-0.075 0 0" rpy="0 0 0"/>
        </joint>


        <joint name="end_metal_joint" type="fixed">
          <parent link="middle_plastic"/>
          <child link="end_metal"/>
          <origin xyz="0.075 0 0" rpy="0 0 0"/>
        </joint>


        <joint name="line_joint" type="fixed">
          <parent link="middle_plastic"/>
          <child link="line"/>
          <origin xyz="0 0 0.025" rpy="0 0 0"/>
        </joint>



  <!-- Attach connector to the bulb -->

    <joint name="attach_snap_to_bulb" type="fixed">
      <parent link="middle_plastic"/>
      <child link="bulb"/>
      <origin xyz="0 0.085 0.06" rpy="0 0 0"/>
    </joint>


</robot>
